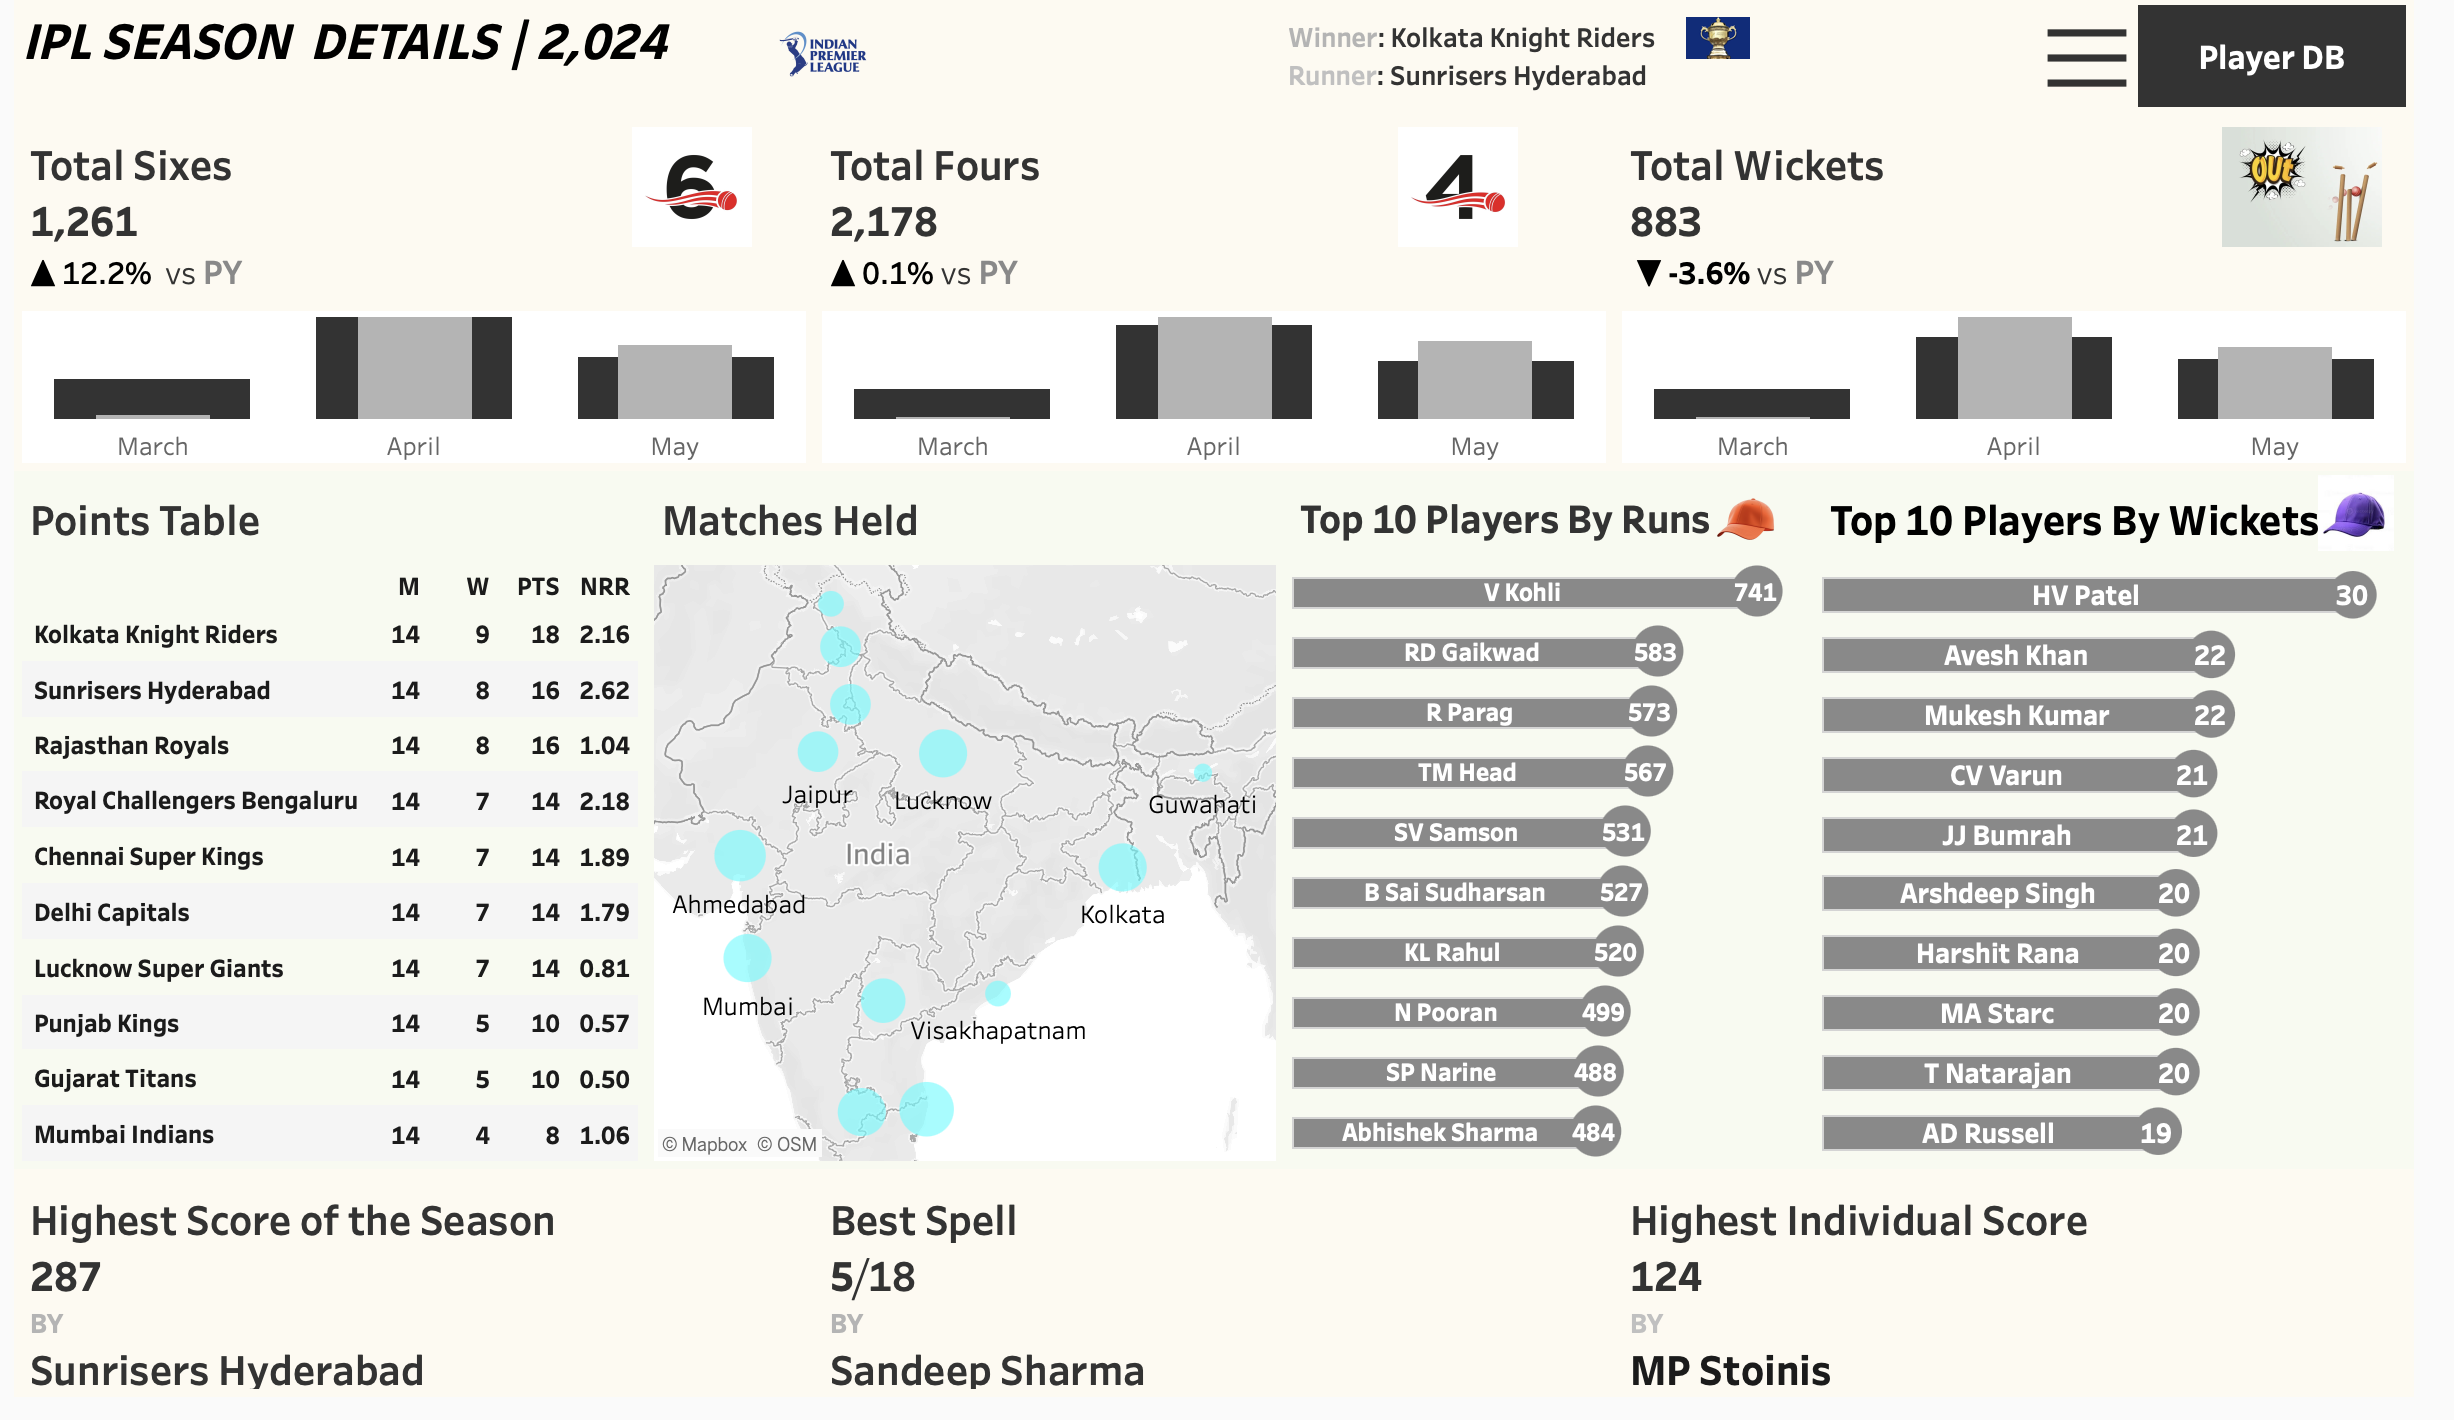

Layout of this report page (visuals, bound fields, positions):
{"tool":"tableau","page":{"name":"Dashboard 1","canvas":[1200,700],"ordinal":0},"visuals":[{"type":"text","box":[0,0,629.1,41]},{"type":"worksheet","title":"Sheet 14","mark":"Automatic","rows":["MATCH_ID (Match!Fact)","TEAM_NAME (Team!Dim3)","Calculation_351562294195089590"],"box":[629.1,0,429,59]},{"type":"dashboard-object","box":[1058.1,0,141.9,59]},{"type":"image","param":"Image/37702b3bb77b4e25d2f5112ad82168c5.png","box":[359,2,91,53]},{"type":"dashboard-object","box":[1015,6,43,48]},{"type":"parameter","param":"[Parameters].[Parameter 1]","box":[887,8,117,41]},{"type":"image","param":"Image/IPL-is-in-Sanskrit.jpg","box":[836,9,32,23]},{"type":"worksheet","title":"Sheet 6","mark":"Bar","rows":["Calculation_351562289223929886","Calculation_351562289245847585"],"cols":["FULL_DT"],"box":[0,59,400,178]},{"type":"worksheet","title":"Sheet 6 (3)","mark":"Bar","rows":["Calculation_351562289414754354","Calculation_351562289414127665"],"cols":["FULL_DT"],"box":[400,59,400,178]},{"type":"worksheet","title":"Sheet 6 (4)","mark":"Bar","rows":["Calculation_351562289473396794","Calculation_351562289474658363"],"cols":["FULL_DT"],"box":[800,59,400,178]},{"type":"image","param":"Image/letter-6-cricket-logo-concept-with-ball-icon-for-cricket-club-symbol-templ","box":[299,65,80,60]},{"type":"image","param":"Image/letter-4-cricket-logo-concept-with-ball-icon-for-cricket-club-symbol-templ","box":[682,65,80,60]},{"type":"image","param":"Image/depositphotos_63363329-stock-illustration-wicket-stumps-with-ball-for.jpg","box":[1104,65,80,60]},{"type":"worksheet","title":"Sheet 16","mark":"Automatic","rows":["TEAM_NAME (Team!Dim3)"],"box":[0,237,315.5,349]},{"type":"worksheet","title":"Geo Stats","mark":"Automatic","box":[315.5,237,319,349]},{"type":"worksheet","title":"Top 10 Players By Runs","mark":"Automatic","rows":["PLAYER_NAME"],"cols":["Calculation_351562292061462621","Calculation_351562292061462621"],"box":[634.5,237,266,349]},{"type":"worksheet","title":"Top 10 Players By Wickets","mark":"Automatic","rows":["PLAYER_NAME (Player!Dim1)"],"cols":["Calculation_351562292071493728","Calculation_351562292071493728"],"box":[900.5,237,299.5,349]},{"type":"image","param":"Image/images.jpeg","box":[1152,239,49,38]},{"type":"image","param":"Image/pngtree-baseball-cap-orange-color-template-mockup-hat-png-image_11471131.p","box":[847,241,49,38]},{"type":"worksheet","title":"Highest Total","mark":"Bar","cols":["Calculation_351562293428985991","Calculation_351562292706017389"],"box":[0,586,400,114]},{"type":"worksheet","title":"Best Wicket Figures","mark":"Text","rows":["MATCH_ID (Match!Fact)","PLAYER_NAME (Player!Dim1)"],"box":[400,586,400,114]},{"type":"worksheet","title":"Sheet 13","mark":"Automatic","rows":["MATCH_ID (Match!Fact)","PLAYER_NAME","TEAM_NAME"],"box":[800,586,400,114]}]}

Visuals, with their boxes in screenshot pixels (x1, y1, x2, y2), scaled from the page's 1200x700 canvas onto the 2454x1420 screenshot:
text: {"left": 0, "top": 0, "right": 1287, "bottom": 83}
"Sheet 14" worksheet: {"left": 1287, "top": 0, "right": 2164, "bottom": 120}
dashboard-object: {"left": 2164, "top": 0, "right": 2453, "bottom": 120}
image: {"left": 734, "top": 4, "right": 920, "bottom": 112}
dashboard-object: {"left": 2076, "top": 12, "right": 2164, "bottom": 110}
parameter: {"left": 1814, "top": 16, "right": 2053, "bottom": 99}
image: {"left": 1710, "top": 18, "right": 1775, "bottom": 65}
"Sheet 6" worksheet (Bar marks): {"left": 0, "top": 120, "right": 818, "bottom": 481}
"Sheet 6 (3)" worksheet (Bar marks): {"left": 818, "top": 120, "right": 1636, "bottom": 481}
"Sheet 6 (4)" worksheet (Bar marks): {"left": 1636, "top": 120, "right": 2453, "bottom": 481}
image: {"left": 611, "top": 132, "right": 775, "bottom": 254}
image: {"left": 1395, "top": 132, "right": 1558, "bottom": 254}
image: {"left": 2258, "top": 132, "right": 2421, "bottom": 254}
"Sheet 16" worksheet: {"left": 0, "top": 481, "right": 645, "bottom": 1189}
"Geo Stats" worksheet: {"left": 645, "top": 481, "right": 1298, "bottom": 1189}
"Top 10 Players By Runs" worksheet: {"left": 1298, "top": 481, "right": 1842, "bottom": 1189}
"Top 10 Players By Wickets" worksheet: {"left": 1842, "top": 481, "right": 2453, "bottom": 1189}
image: {"left": 2356, "top": 485, "right": 2453, "bottom": 562}
image: {"left": 1732, "top": 489, "right": 1832, "bottom": 566}
"Highest Total" worksheet (Bar marks): {"left": 0, "top": 1189, "right": 818, "bottom": 1419}
"Best Wicket Figures" worksheet (Text marks): {"left": 818, "top": 1189, "right": 1636, "bottom": 1419}
"Sheet 13" worksheet: {"left": 1636, "top": 1189, "right": 2453, "bottom": 1419}
